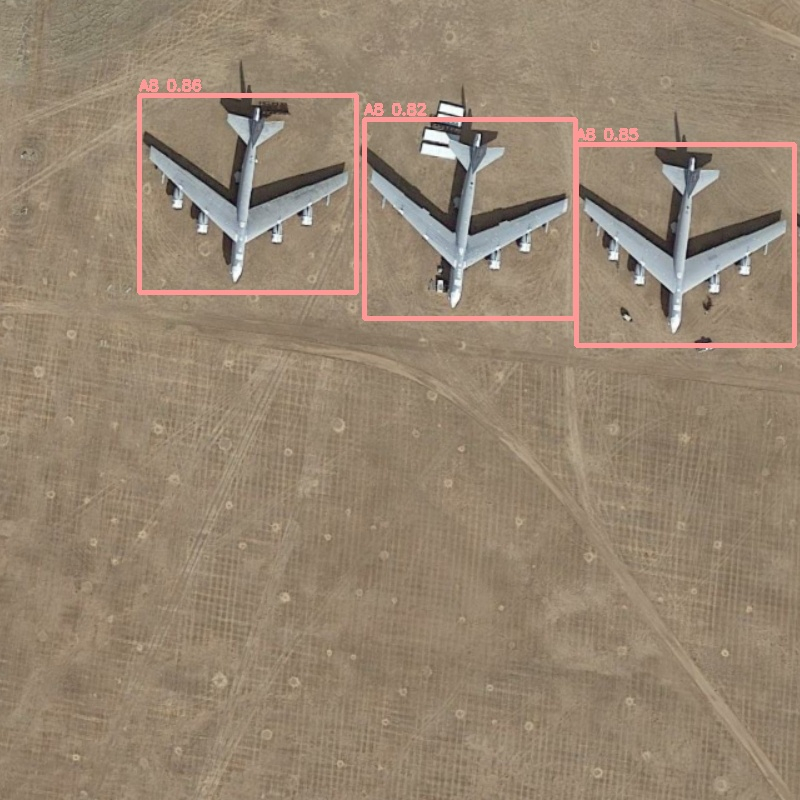A8: (576, 144, 794, 345), (139, 95, 356, 292), (364, 119, 575, 318)
